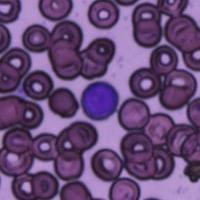L: (82, 80, 118, 120)
